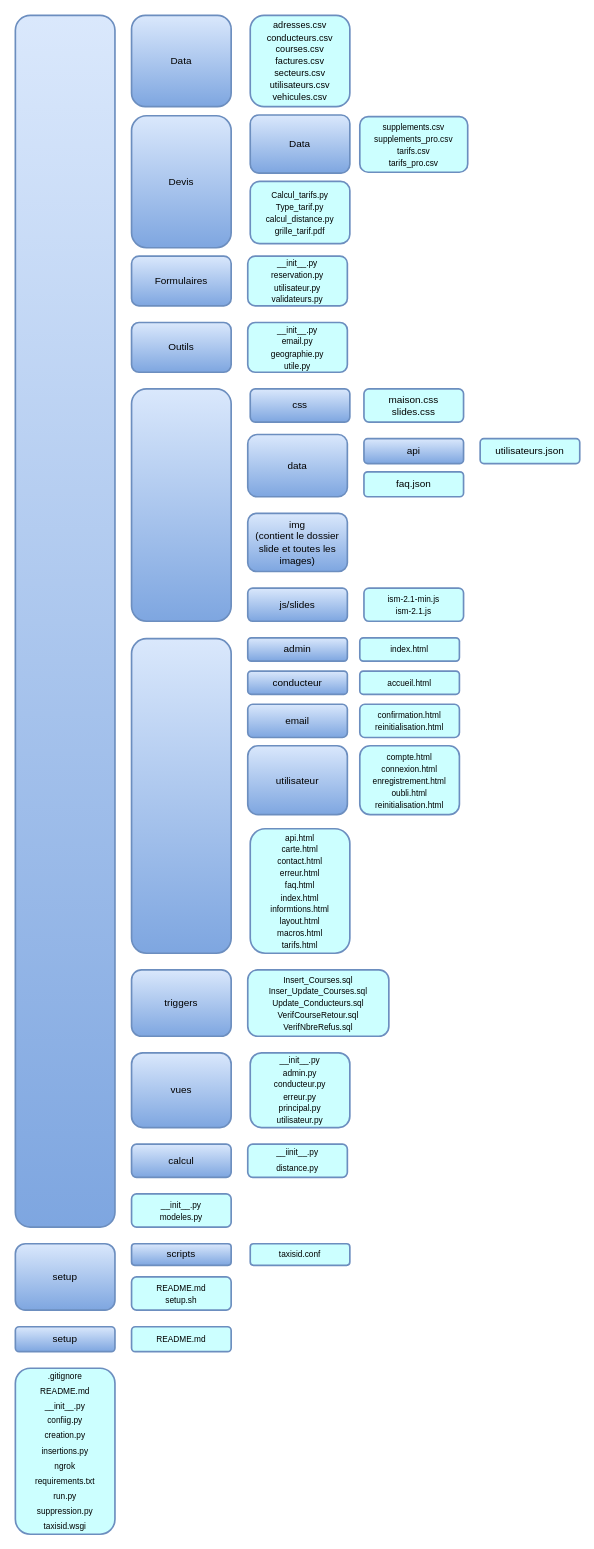
The diagram is 594 pixels wide and 1549 high, and some of its shapes have lost their labels. Each missing label, with the centre of its shape:
App: (x=64, y=621)
Static: (x=181, y=505)
Templates: (x=181, y=795)
